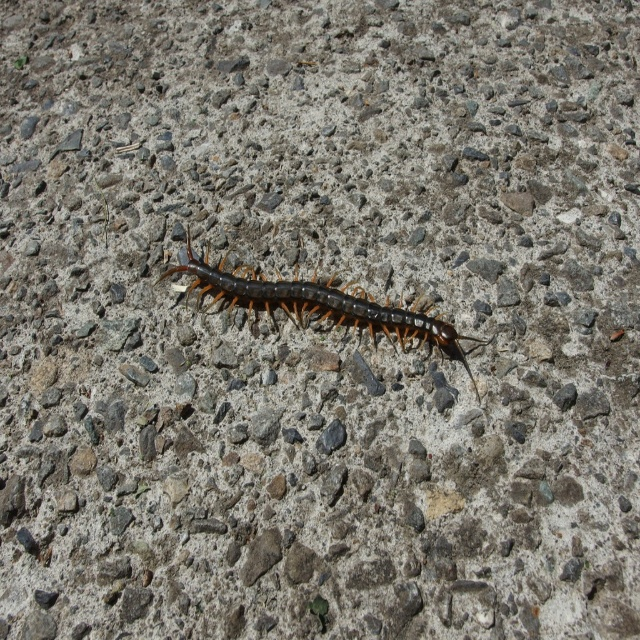Centipede: (151, 226, 496, 401)
